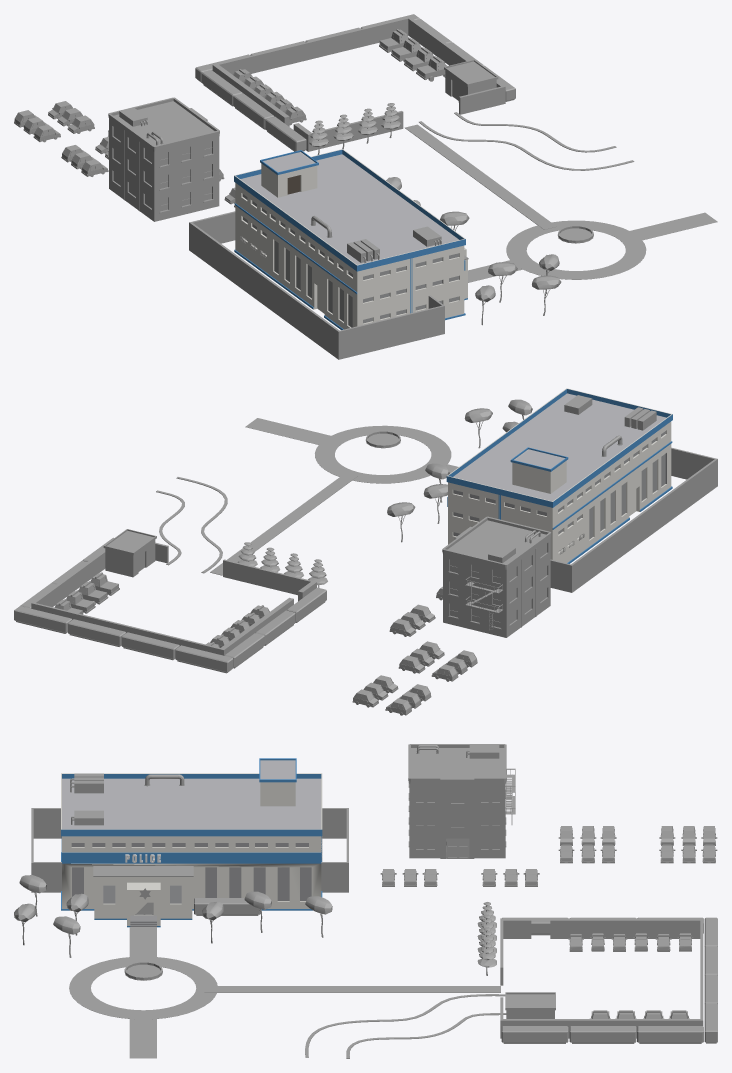
The model's file is comisaria.fbx.
3 renders of one model, top to bottom at view 1: azimuth 30°, elevation 25°; view 2: azimuth 150°, elevation 25°; view 3: azimuth 270°, elevation 25°, orthographic. The views are drawn at different scales.
Visible parts, largest first — view 1: pCube1680, pCube1685, pCube1729, pCube1700, pCylinder219, pCube1681, pCube1701, pCube1693, pCube1702, pCube1737, pCube1738, pCube1739 (+1 smaller); view 2: pCube1680, pCube1685, pCube1729, pCube1700, pCylinder219, pCube1681, pCube1693, pCube1701, pCube1736, pCube1735, pCube1702, pCube1734 (+5 smaller); view 3: pCube1680, pCube1685, pCube1700, pCube1682, pCylinder219, pCube1729, pCube1701, pCube1681, pCube1693, pCube1731, pCube1730, pCube1732 (+9 smaller).
Boxes of the visible parts, bbox=[...] form: pCube1680: bbox=[234, 149, 465, 329]; pCube1685: bbox=[108, 97, 219, 221]; pCube1729: bbox=[189, 211, 444, 359]; pCube1700: bbox=[212, 17, 505, 151]; pCylinder219: bbox=[506, 220, 646, 279]; pCube1681: bbox=[260, 150, 318, 197]; pCube1701: bbox=[405, 124, 556, 229]; pCube1693: bbox=[444, 59, 498, 102]; pCube1702: bbox=[630, 212, 717, 240]; pCube1737: bbox=[265, 116, 306, 151]; pCube1738: bbox=[233, 93, 274, 129]; pCube1739: bbox=[201, 70, 242, 106]; pCube1680: bbox=[446, 388, 672, 563]; pCube1685: bbox=[442, 516, 551, 637]; pCube1729: bbox=[550, 447, 717, 592]; pCube1700: bbox=[31, 542, 316, 655]; pCylinder219: bbox=[315, 425, 451, 483]; pCube1681: bbox=[510, 447, 568, 493]; pCube1693: bbox=[103, 529, 156, 577]; pCube1701: bbox=[210, 472, 357, 575]; pCube1736: bbox=[175, 645, 233, 673]; pCube1735: bbox=[121, 632, 179, 660]; pCube1702: bbox=[245, 418, 330, 444]; pCube1734: bbox=[68, 619, 125, 646]; pCube1680: bbox=[61, 773, 322, 910]; pCube1685: bbox=[408, 744, 506, 858]; pCube1700: bbox=[500, 918, 703, 1038]; pCube1682: bbox=[94, 877, 192, 927]; pCylinder219: bbox=[69, 956, 217, 1019]; pCube1729: bbox=[31, 808, 348, 892]; pCube1701: bbox=[204, 986, 500, 992]; pCube1681: bbox=[259, 758, 296, 806]; pCube1693: bbox=[505, 992, 555, 1018]; pCube1731: bbox=[569, 1026, 636, 1043]; pCube1730: bbox=[501, 1026, 568, 1043]; pCube1732: bbox=[637, 1026, 703, 1043].
Bounding box in the file's own units: 232 × 50.95 × 307.
